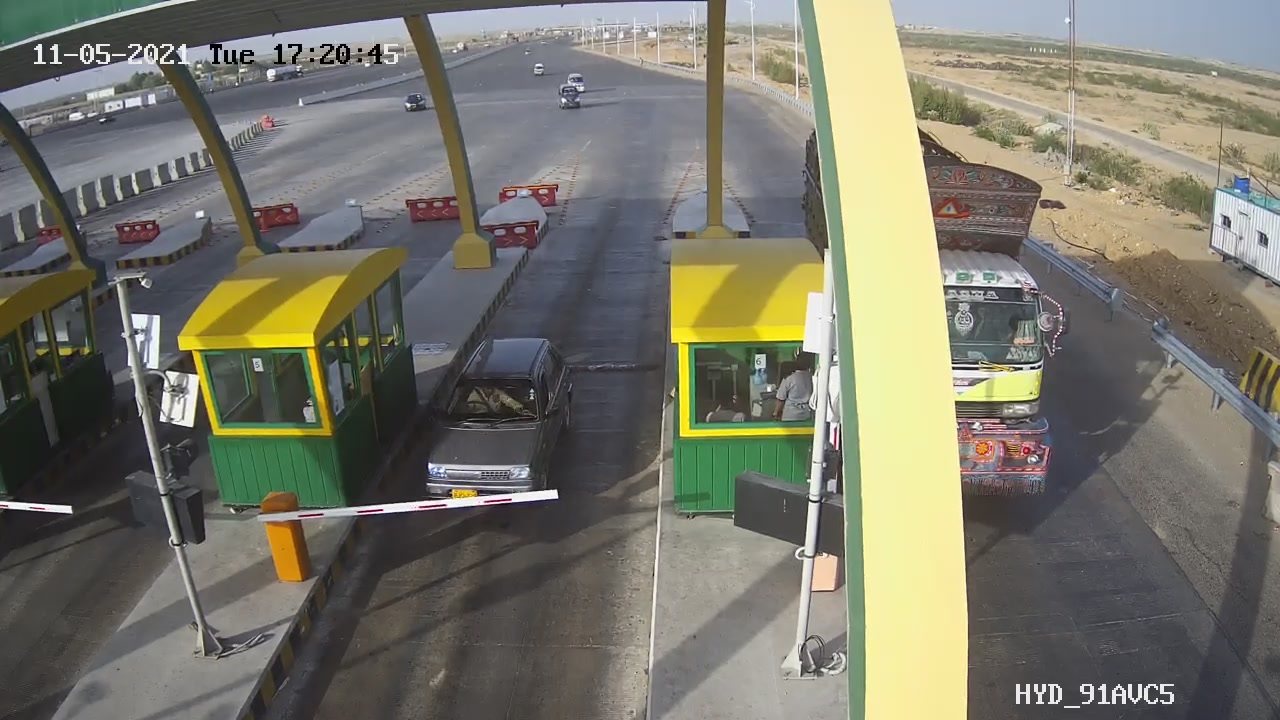F1: (407, 322, 592, 524)
